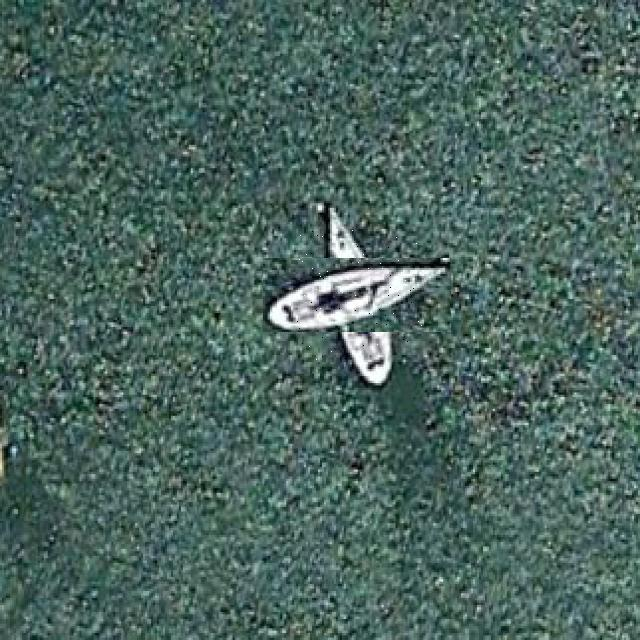boat: (291, 230, 423, 361)
